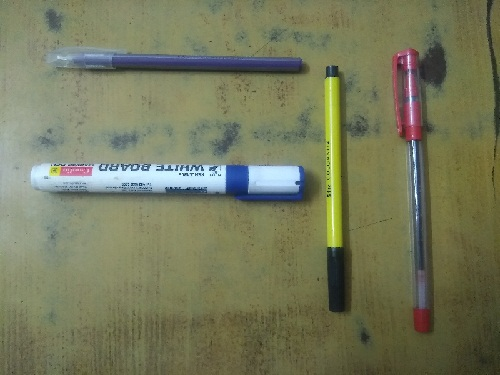pen: (387, 45, 438, 336), (25, 159, 310, 206), (38, 41, 309, 79), (321, 62, 354, 314)
